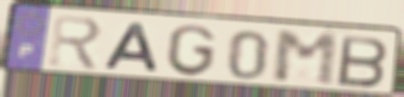0: (226, 28, 273, 81)
A: (101, 21, 161, 74)
B: (335, 34, 391, 90)
G: (164, 23, 218, 79)
M: (272, 30, 341, 88)
R: (47, 13, 105, 73)
